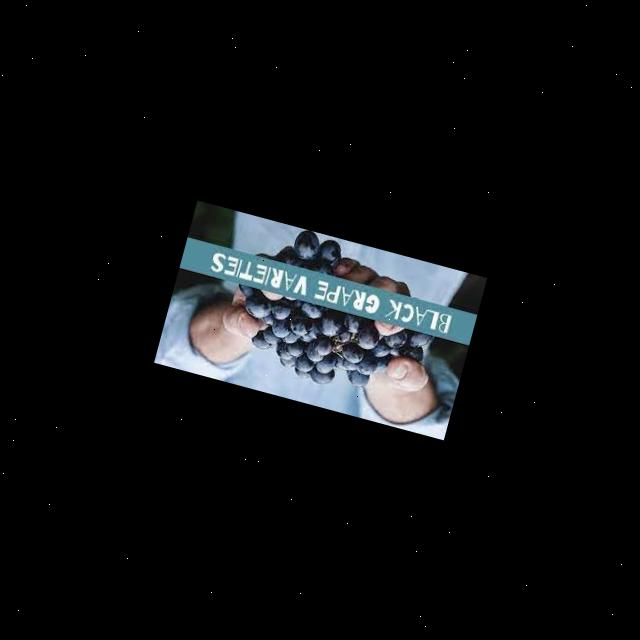grape: (217, 280, 406, 406)
